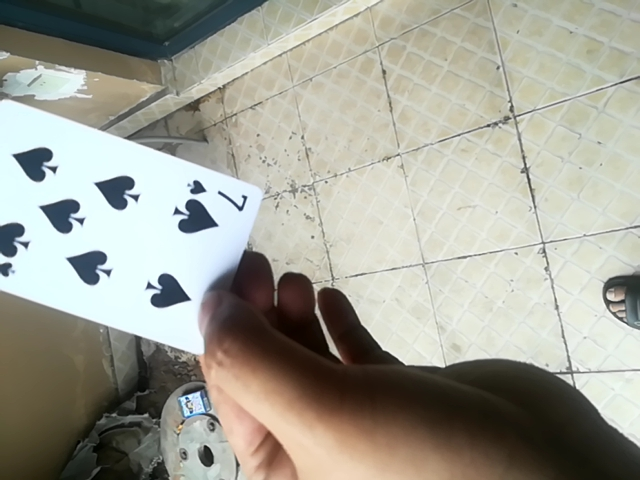ht 7: (0, 99, 274, 364)
